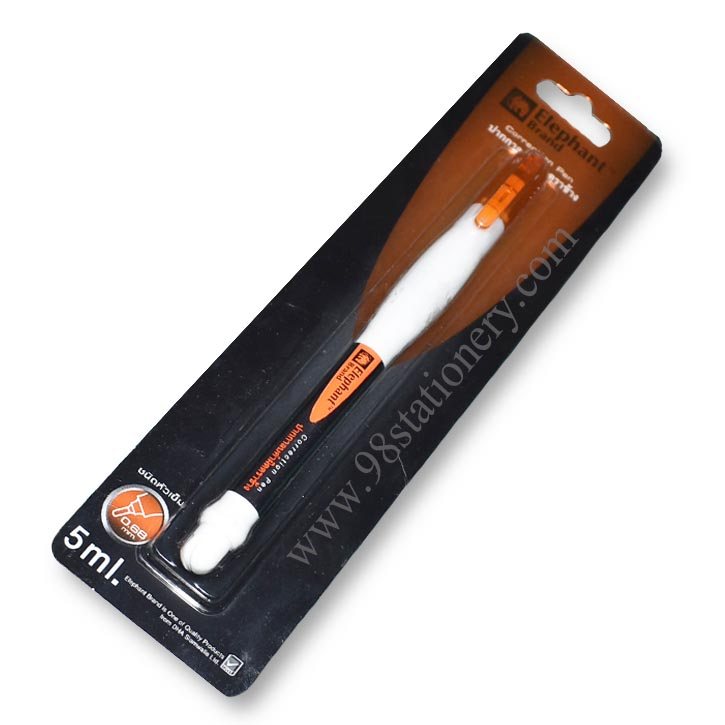Correction_fluid: (170, 150, 559, 582)
